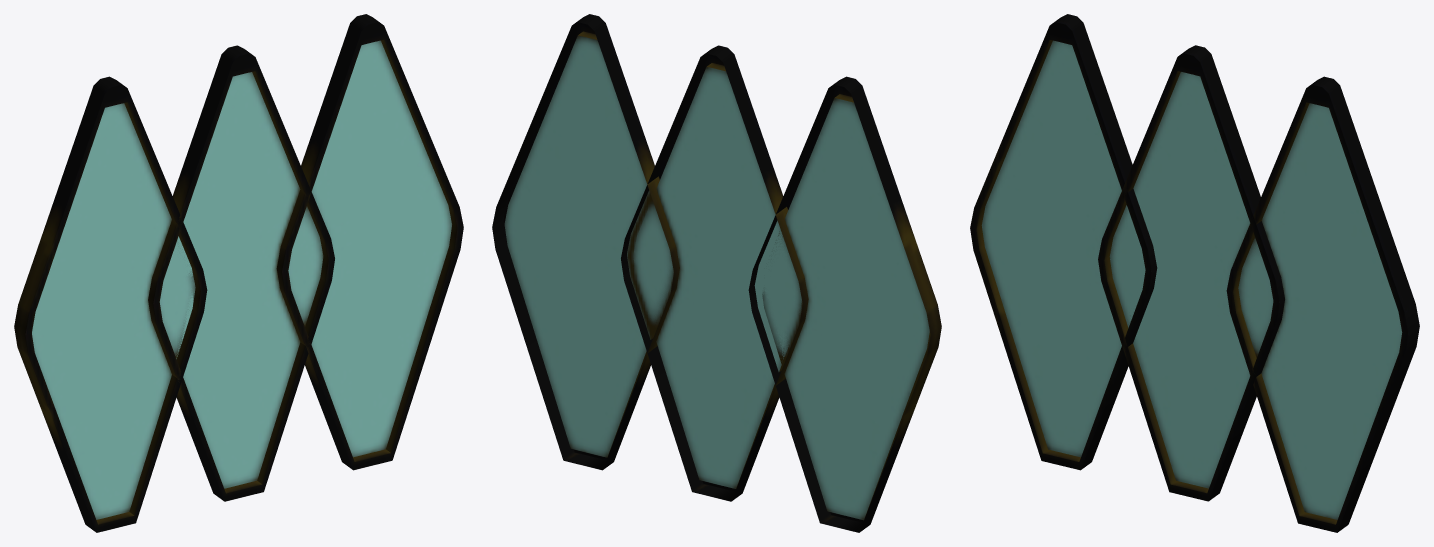
File: dinningdecoA.gltf
3 views of the same model, side by side, from view 1: azimuth 30°, elevation 25°; view 2: azimuth 150°, elevation 25°; view 3: azimuth 330°, elevation 25° (orthographic).
Parts seen in each view (by area): view 1: Ornament; view 2: Ornament; view 3: Ornament.
Part boxes in pixels (x1,y1,x2,y2): Ornament: [14, 14, 463, 532]; Ornament: [492, 14, 941, 532]; Ornament: [970, 14, 1419, 532].
Size of the model in its own units: 1.36 by 1.32 by 0.061.
Materials: 1 (1 with a texture image).
